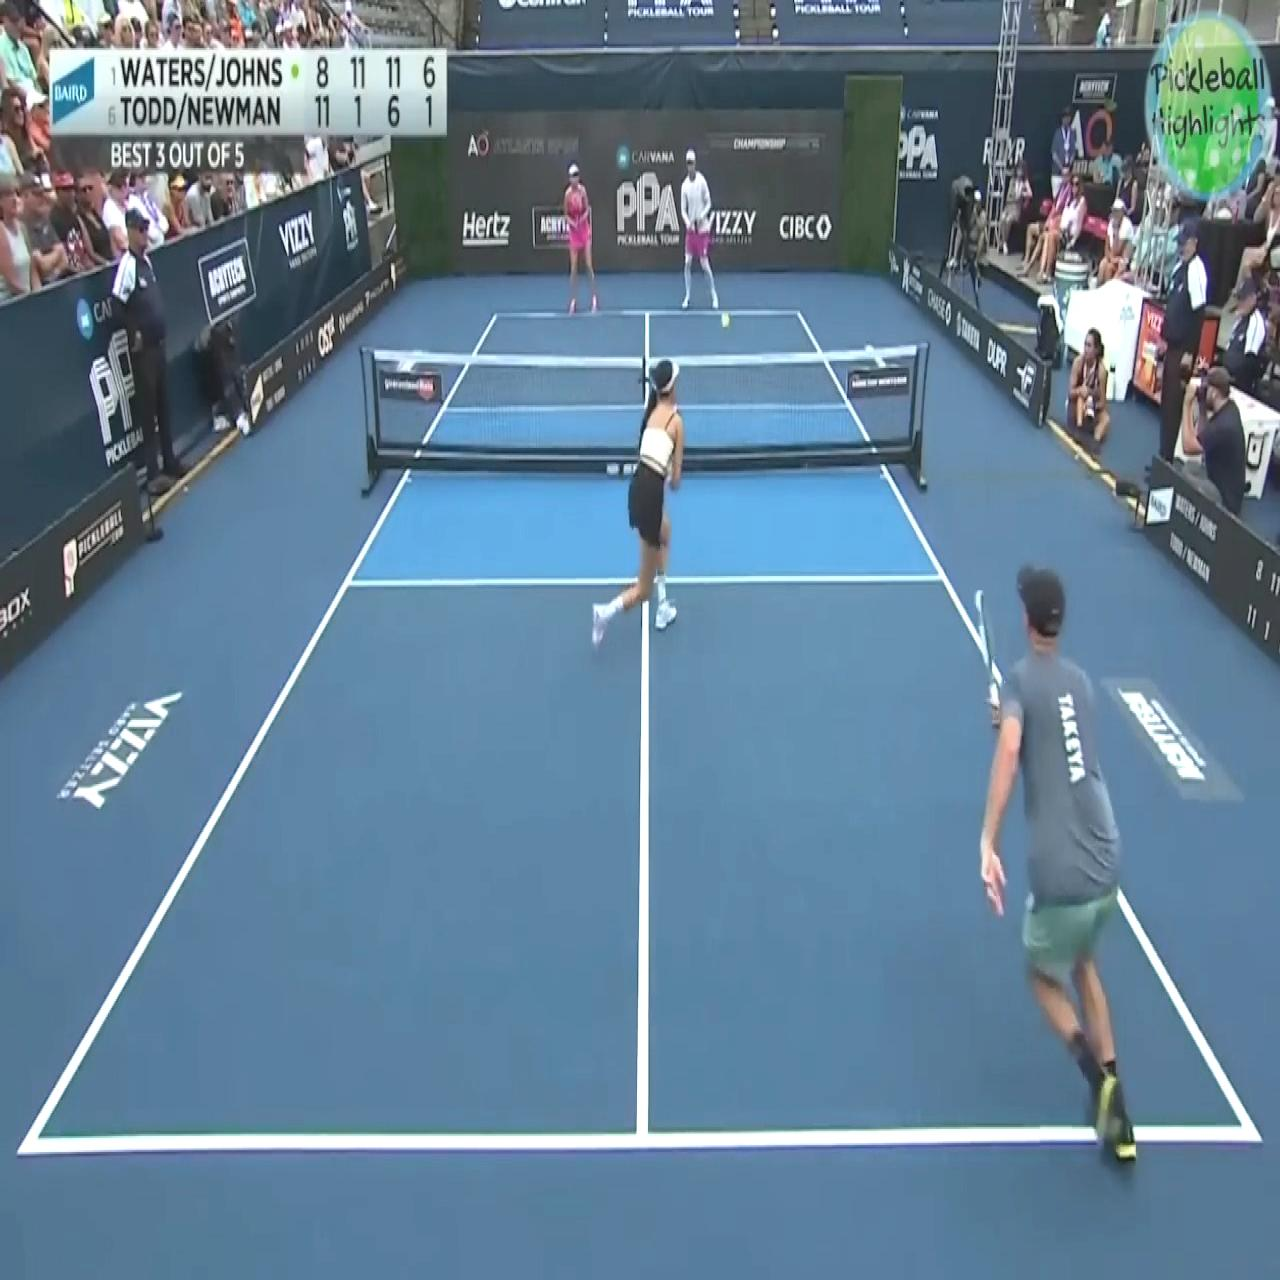Pickleball: (721, 307, 731, 333)
